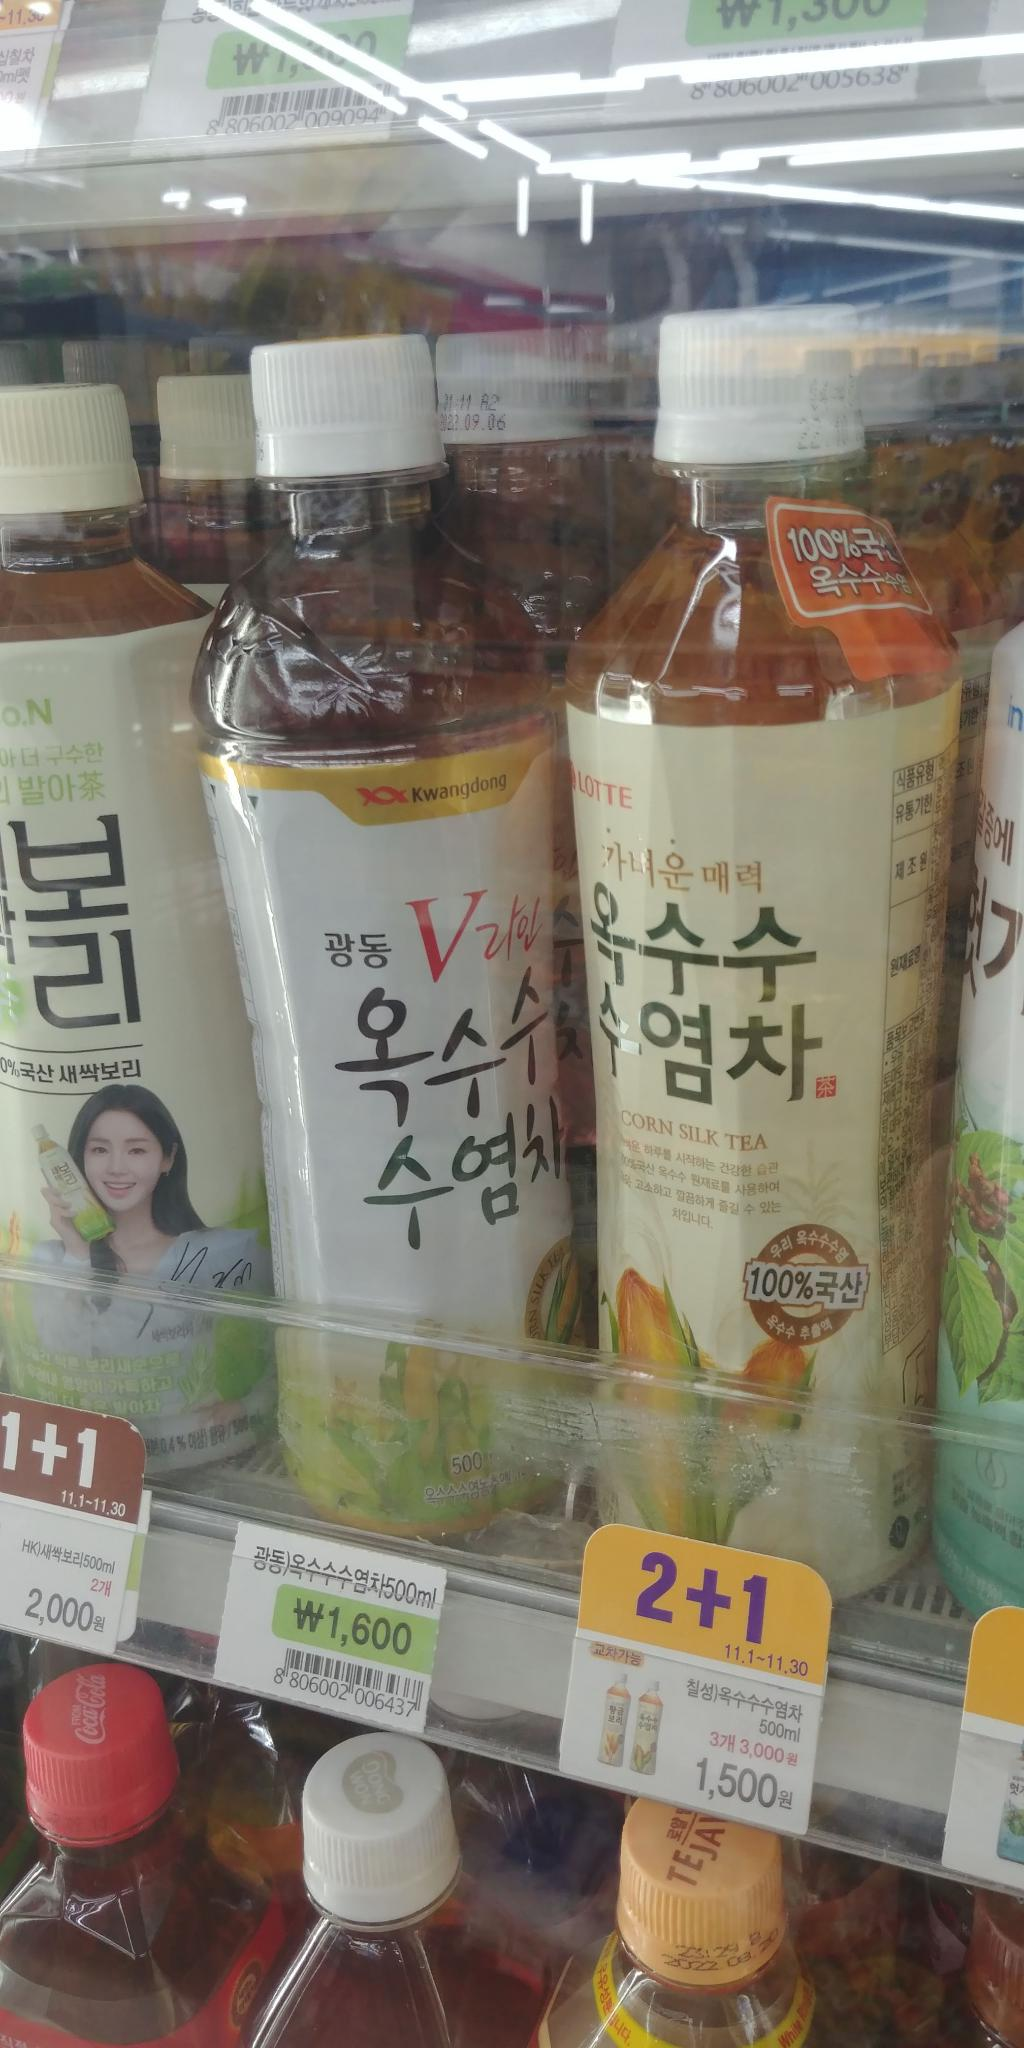oksususuyeomcha: (179, 278, 615, 1558)
